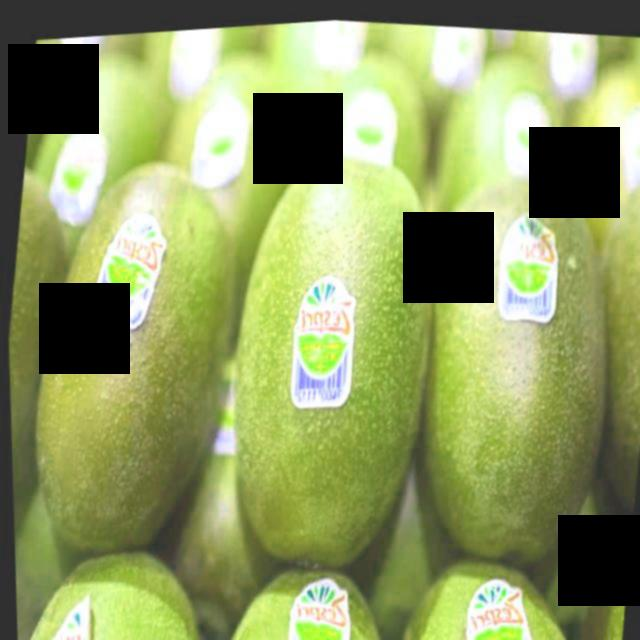kiwi: (207, 130, 458, 577), (11, 138, 261, 565), (396, 157, 639, 576)
